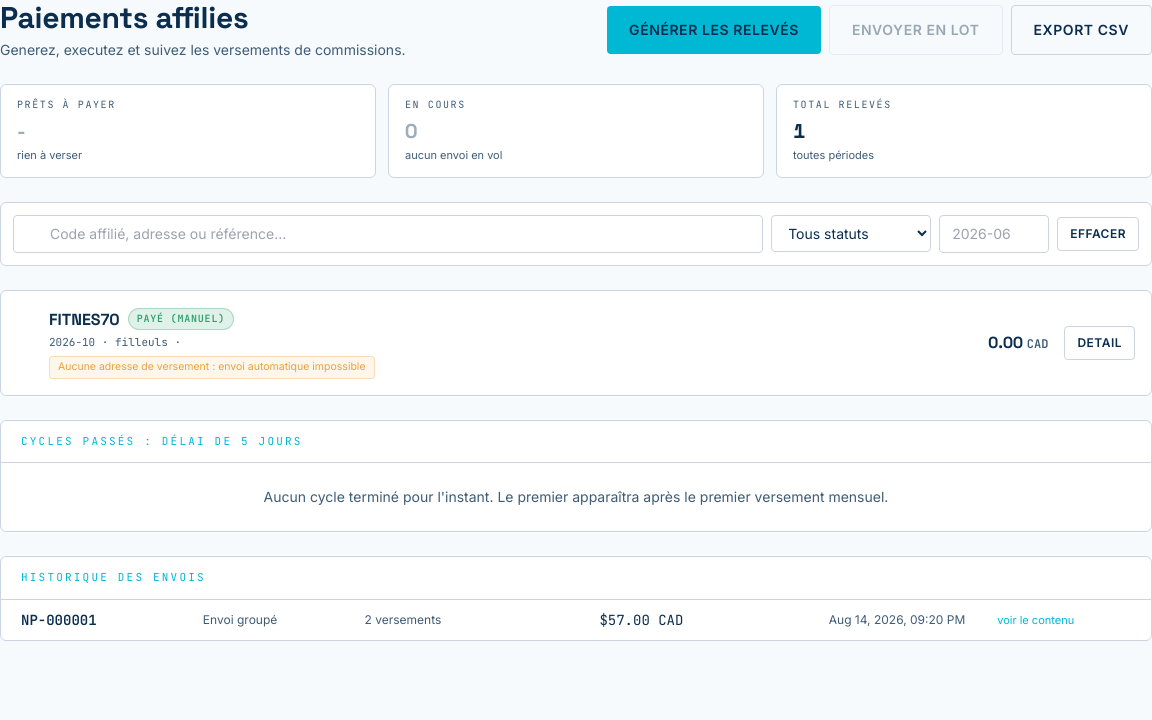
Test: AdminPayouts — les avis envoyés › sans retenue, aucun bloc en trop
This screenshot has width=1152, height=720.
Click the button with test id "detail-p-9" at (1100, 343), box [1064, 326, 1135, 360]
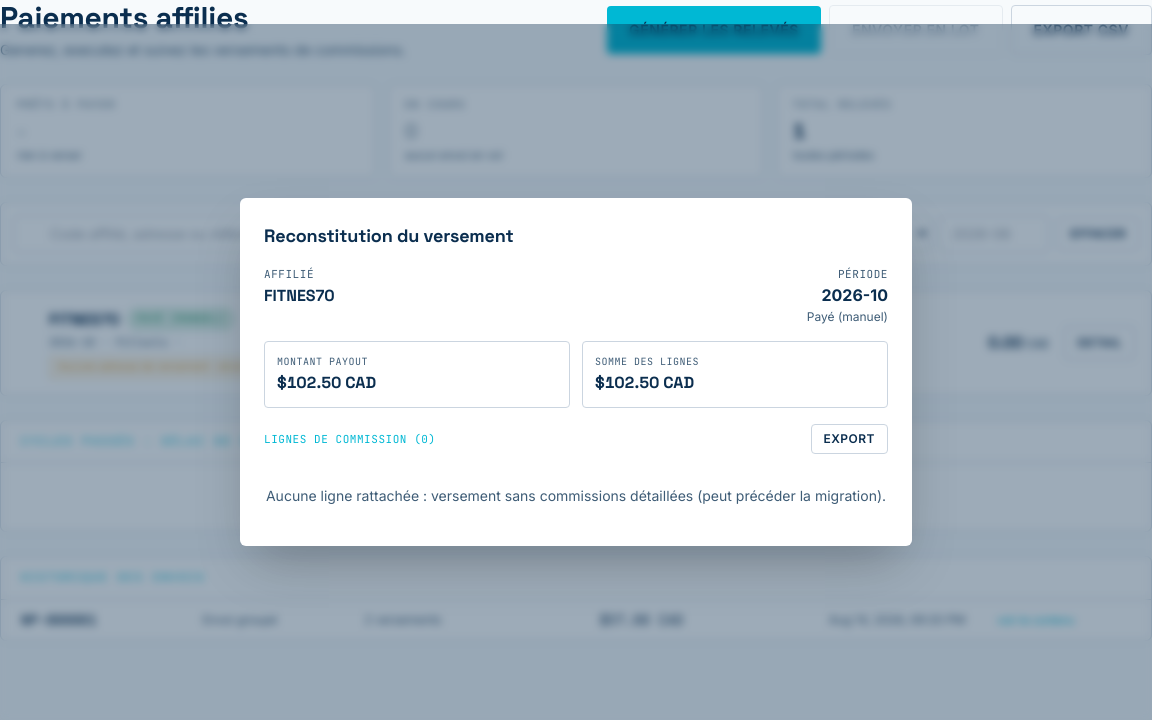
Check: the text "Somme des lignes" is shown, box [595, 355, 699, 368]
